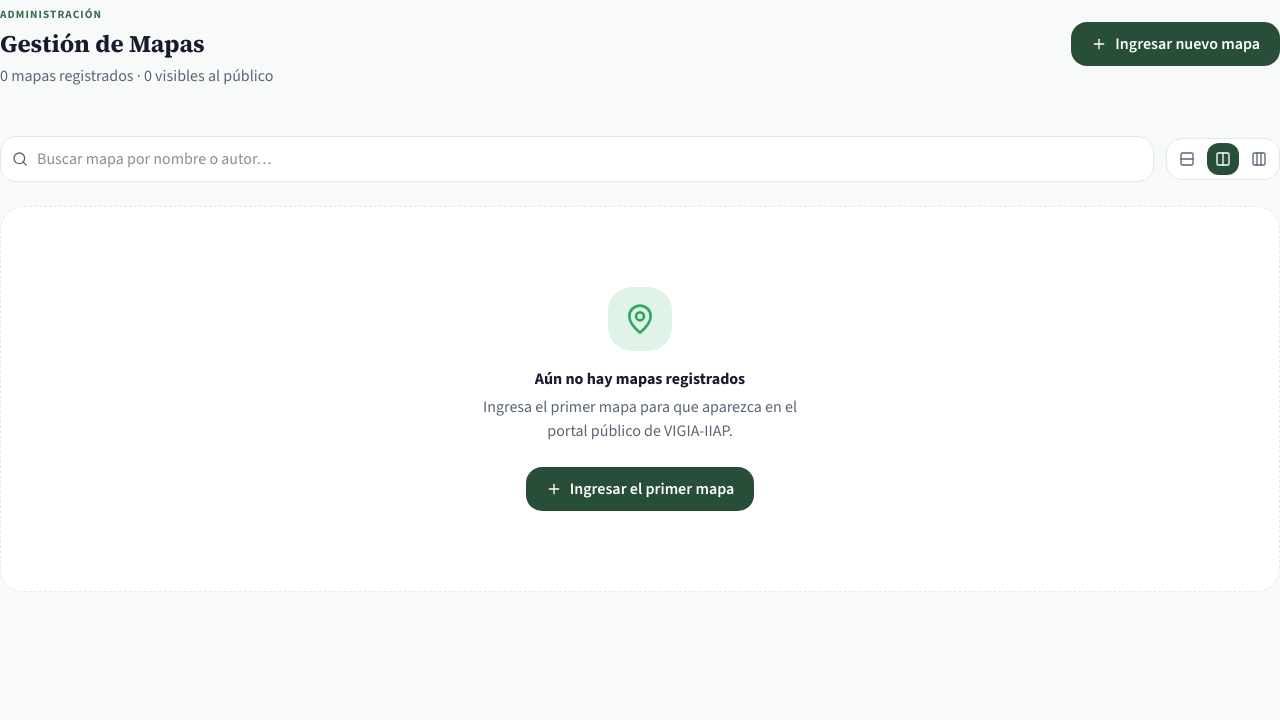
Scenario: GestionMapas — validación del formulario › nombre, temática y archivo son obligatorios para un mapa nuevo en formato PDF
Click the button "Ingresar nuevo mapa" at (1176,44), box [1071,22,1279,66]
(page scrolled)
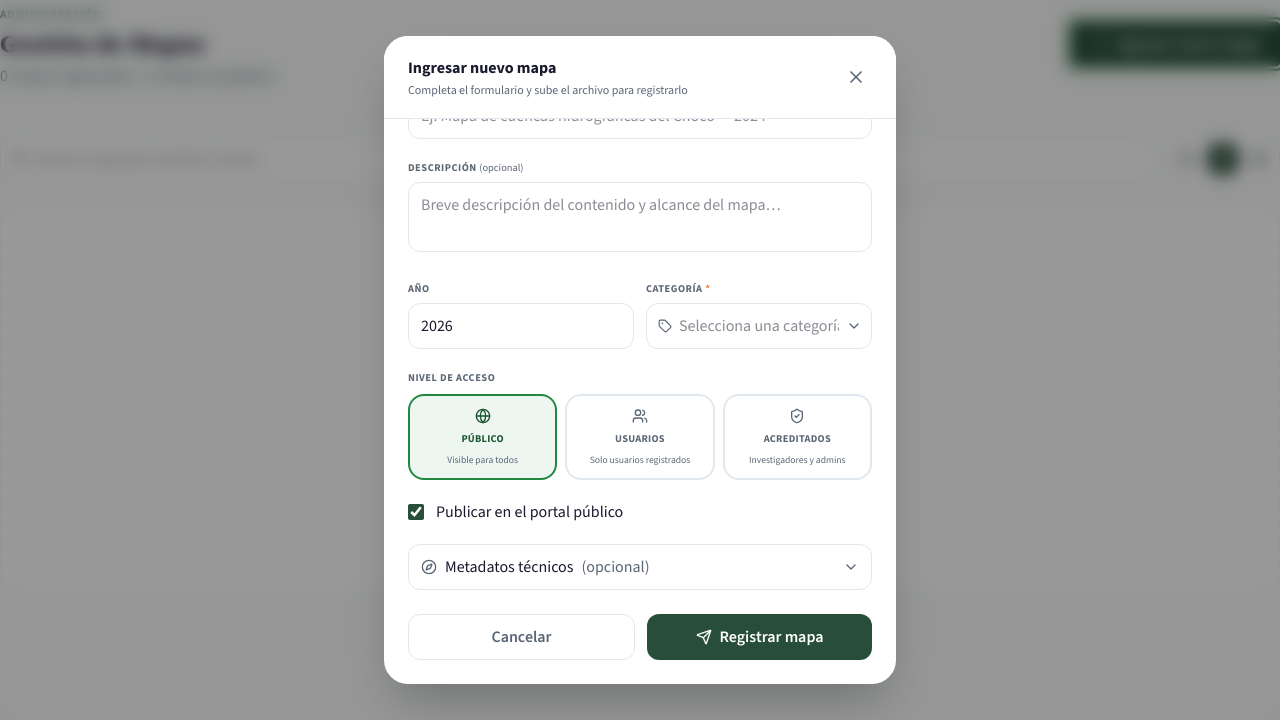
Click the button "Registrar mapa" at (760,637), box [647,614,872,660]
(page scrolled)
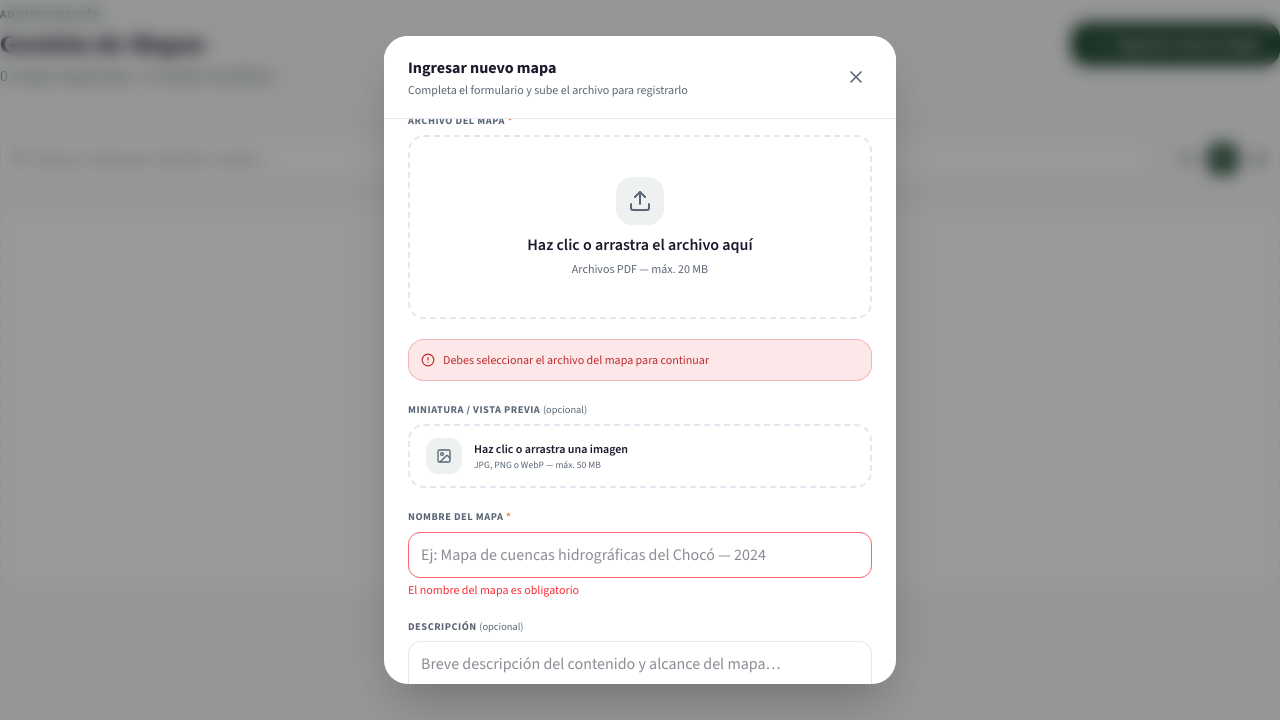
Expected: the text "El nombre del mapa es obligatorio" is shown, [408,582,579,598]
Expected: the text "Debes seleccionar el archivo del mapa para continuar" is shown, [408,339,872,381]
